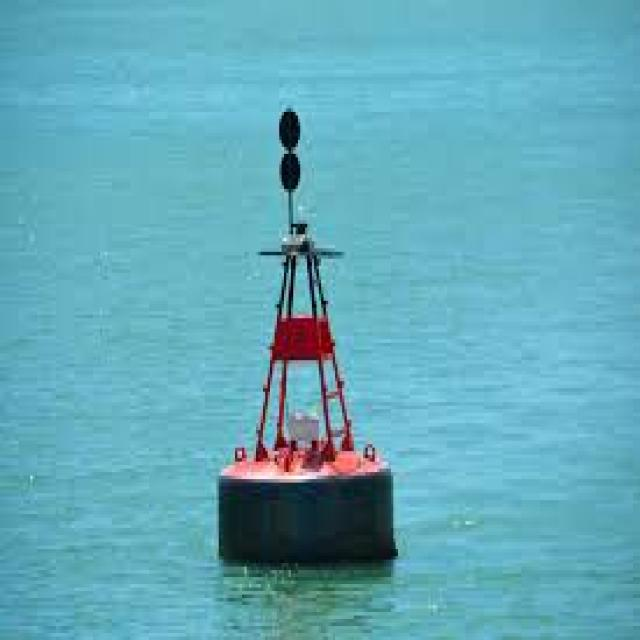marque: (222, 76, 394, 584)
